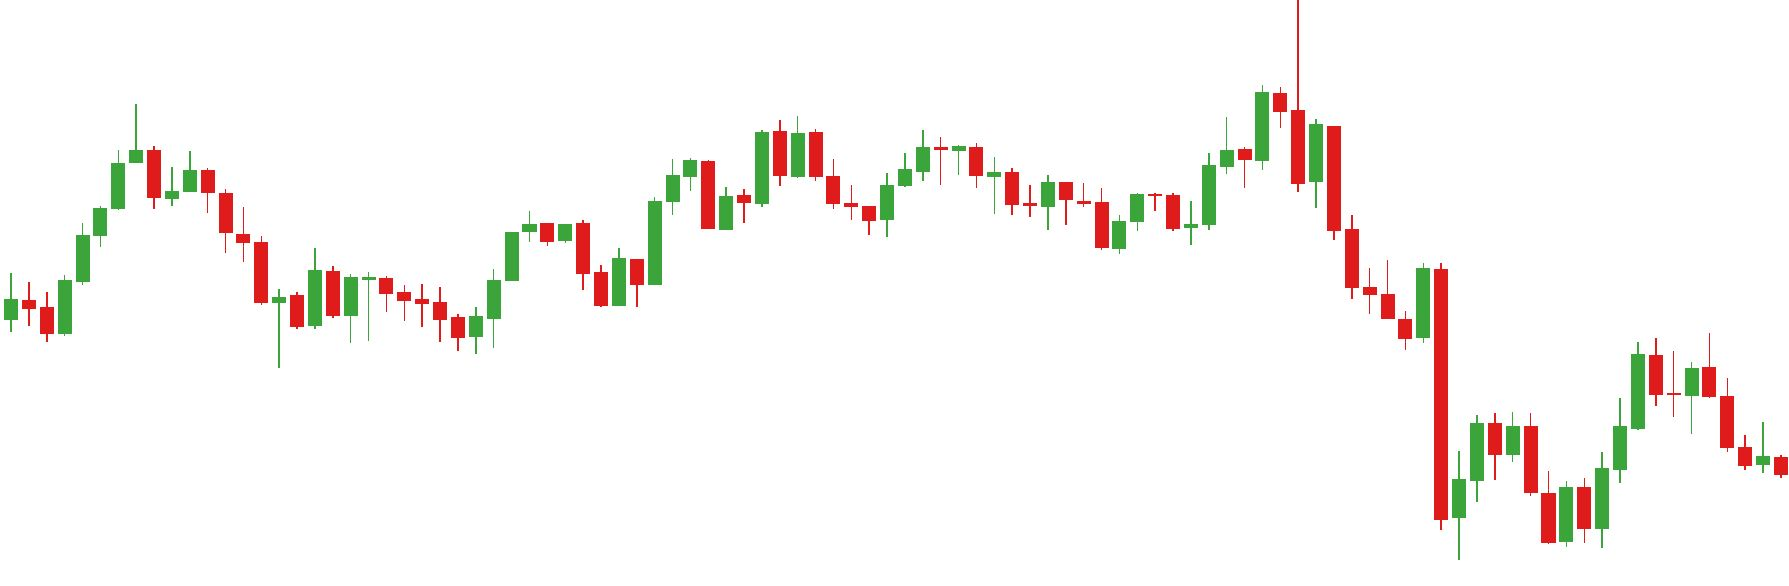buy: (39, 193, 285, 373)
sell: (666, 112, 791, 210)
